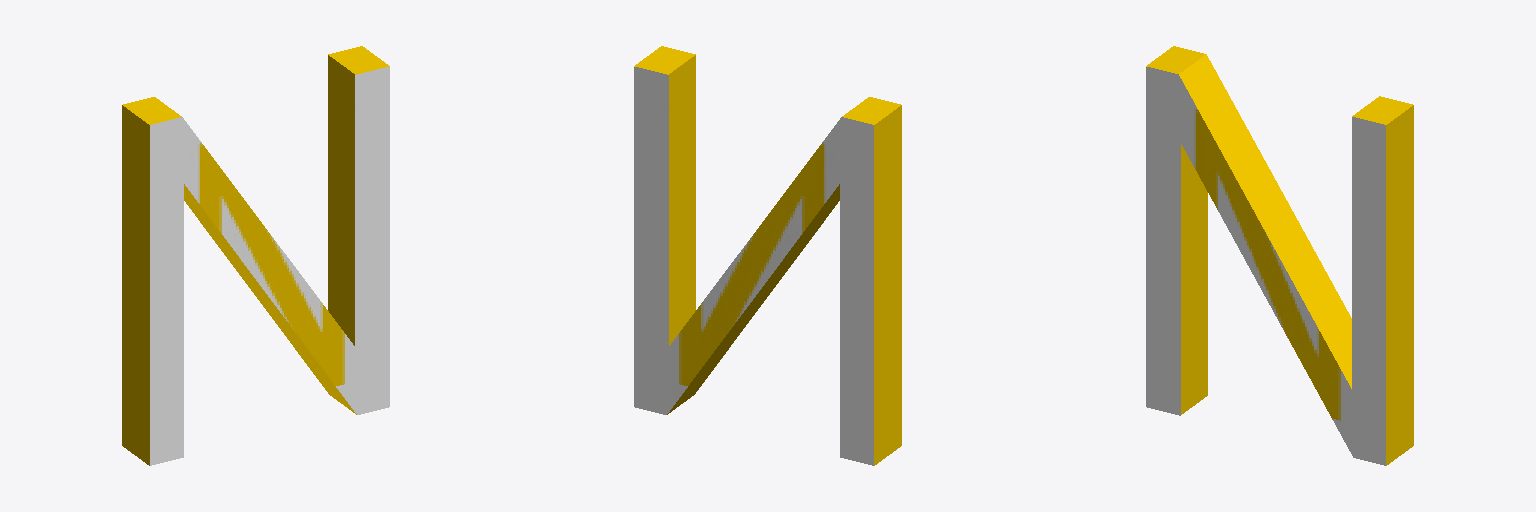
3 views of the same model, side by side, from view 1: azimuth 30°, elevation 25°; view 2: azimuth 150°, elevation 25°; view 3: azimuth 330°, elevation 25° (orthographic).
Bounding box in the file's own units: 59.57 × 80.63 × 11.91.
Materials: 5 (1 with a texture image).